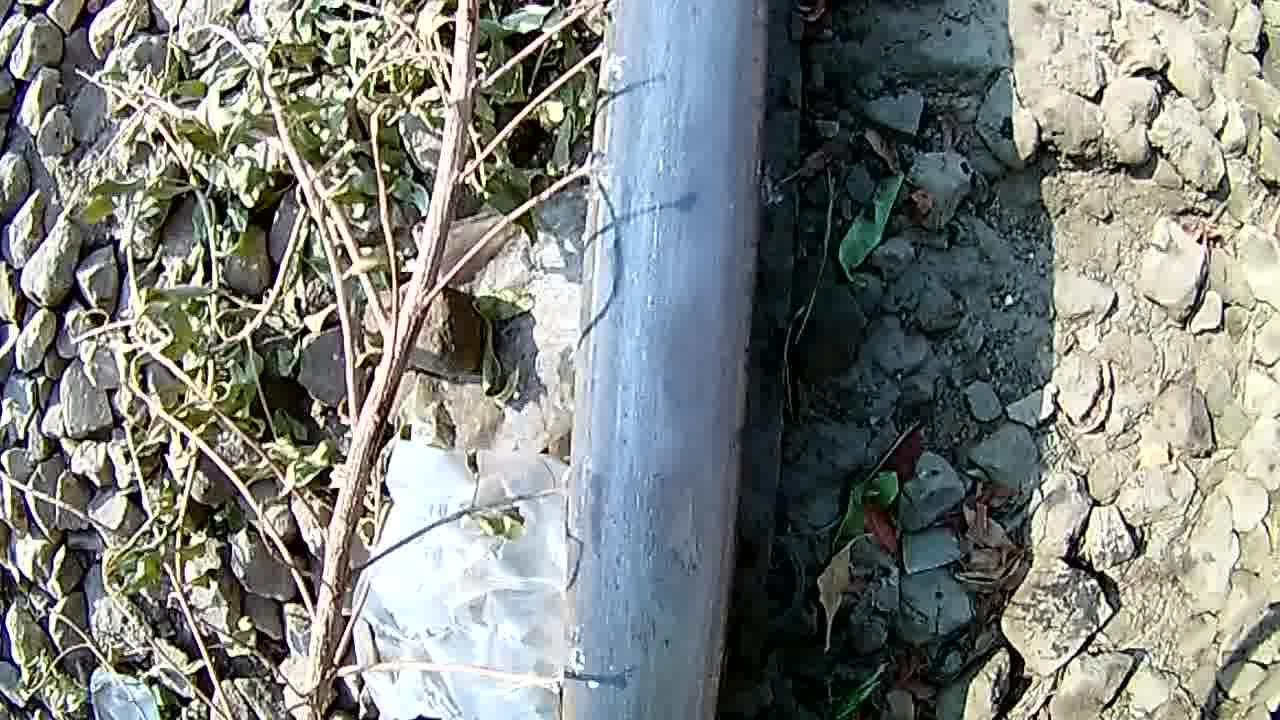crack: (572, 9, 782, 720)
